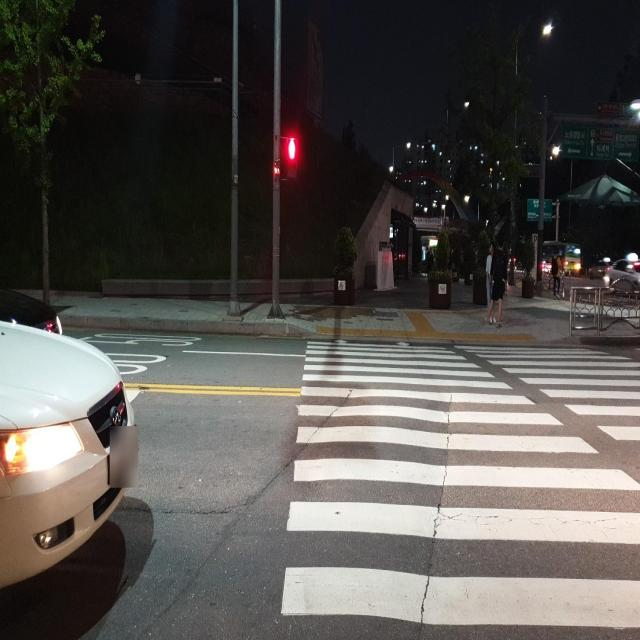빨간불: (284, 133, 302, 194)
횡단보도: (278, 336, 640, 632)
